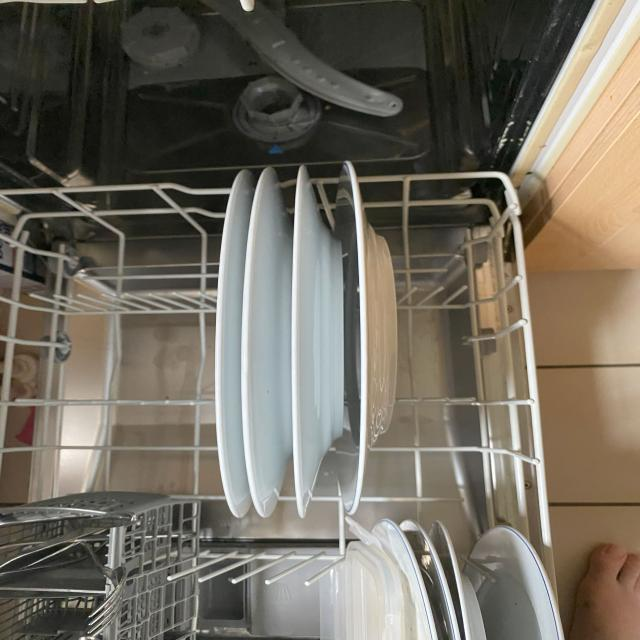clutery_bin: (12, 519, 111, 640)
empty_slot: (6, 212, 194, 506), (404, 195, 493, 508), (182, 542, 320, 640)
